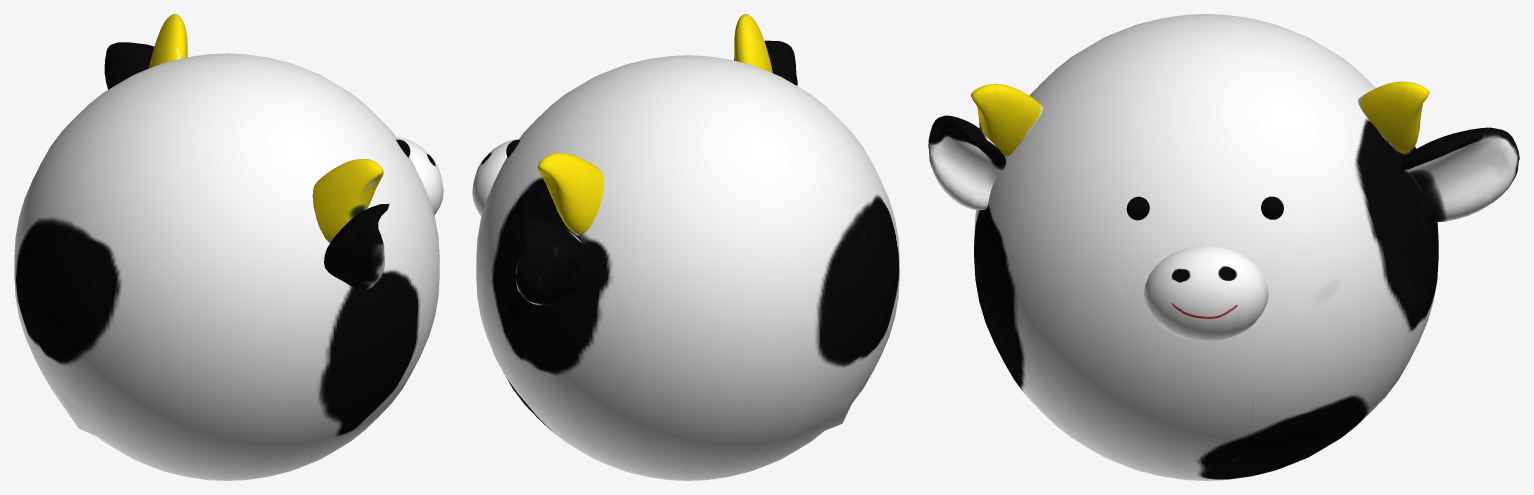
The model's file is mookie_from_mudbox1.gltf.
The picture shows the model from 3 angles, left to right: view 1: azimuth 30°, elevation 25°; view 2: azimuth 150°, elevation 25°; view 3: azimuth 270°, elevation 25°; orthographic projection. The views are drawn at different scales.
Visible parts, largest first — view 1: mookiebody; view 2: mookiebody; view 3: mookiebody.
Boxes of the visible parts, left/top/right/bottom form: mookiebody: left=14, top=14, right=443, bottom=480; mookiebody: left=472, top=14, right=899, bottom=480; mookiebody: left=928, top=14, right=1519, bottom=480.
Size of the model in its own units: 5.83 by 5.51 by 6.97.
2 materials, 2 textured.
